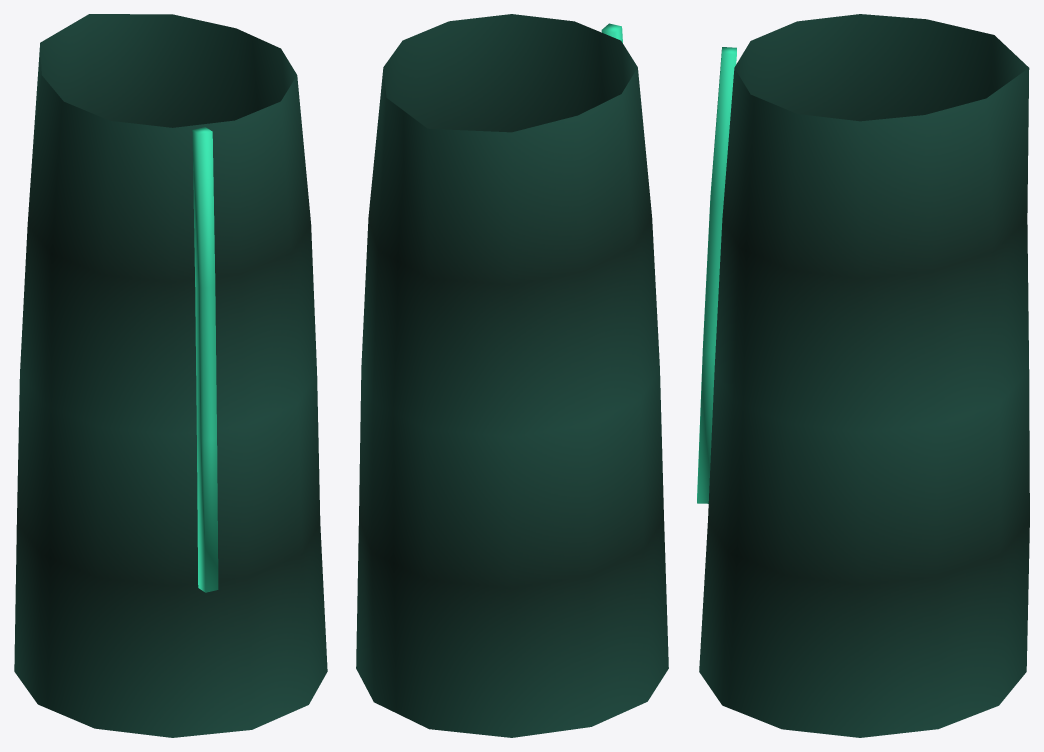
File: vortex_armor_greave.L.glb
3 renders of one model, left to right at view 1: azimuth 30°, elevation 25°; view 2: azimuth 150°, elevation 25°; view 3: azimuth 270°, elevation 25°, orthographic.
Parts seen in each view (by area): view 1: vortex_armor_greave.L; view 2: vortex_armor_greave.L; view 3: vortex_armor_greave.L.
Boxes of the visible parts, box(x1,y1,x2,y2) form: vortex_armor_greave.L: box(14, 14, 327, 737); vortex_armor_greave.L: box(356, 14, 668, 737); vortex_armor_greave.L: box(697, 14, 1029, 737).
Bounding box in the file's own units: 0.1774 × 0.3771 × 0.1882.
